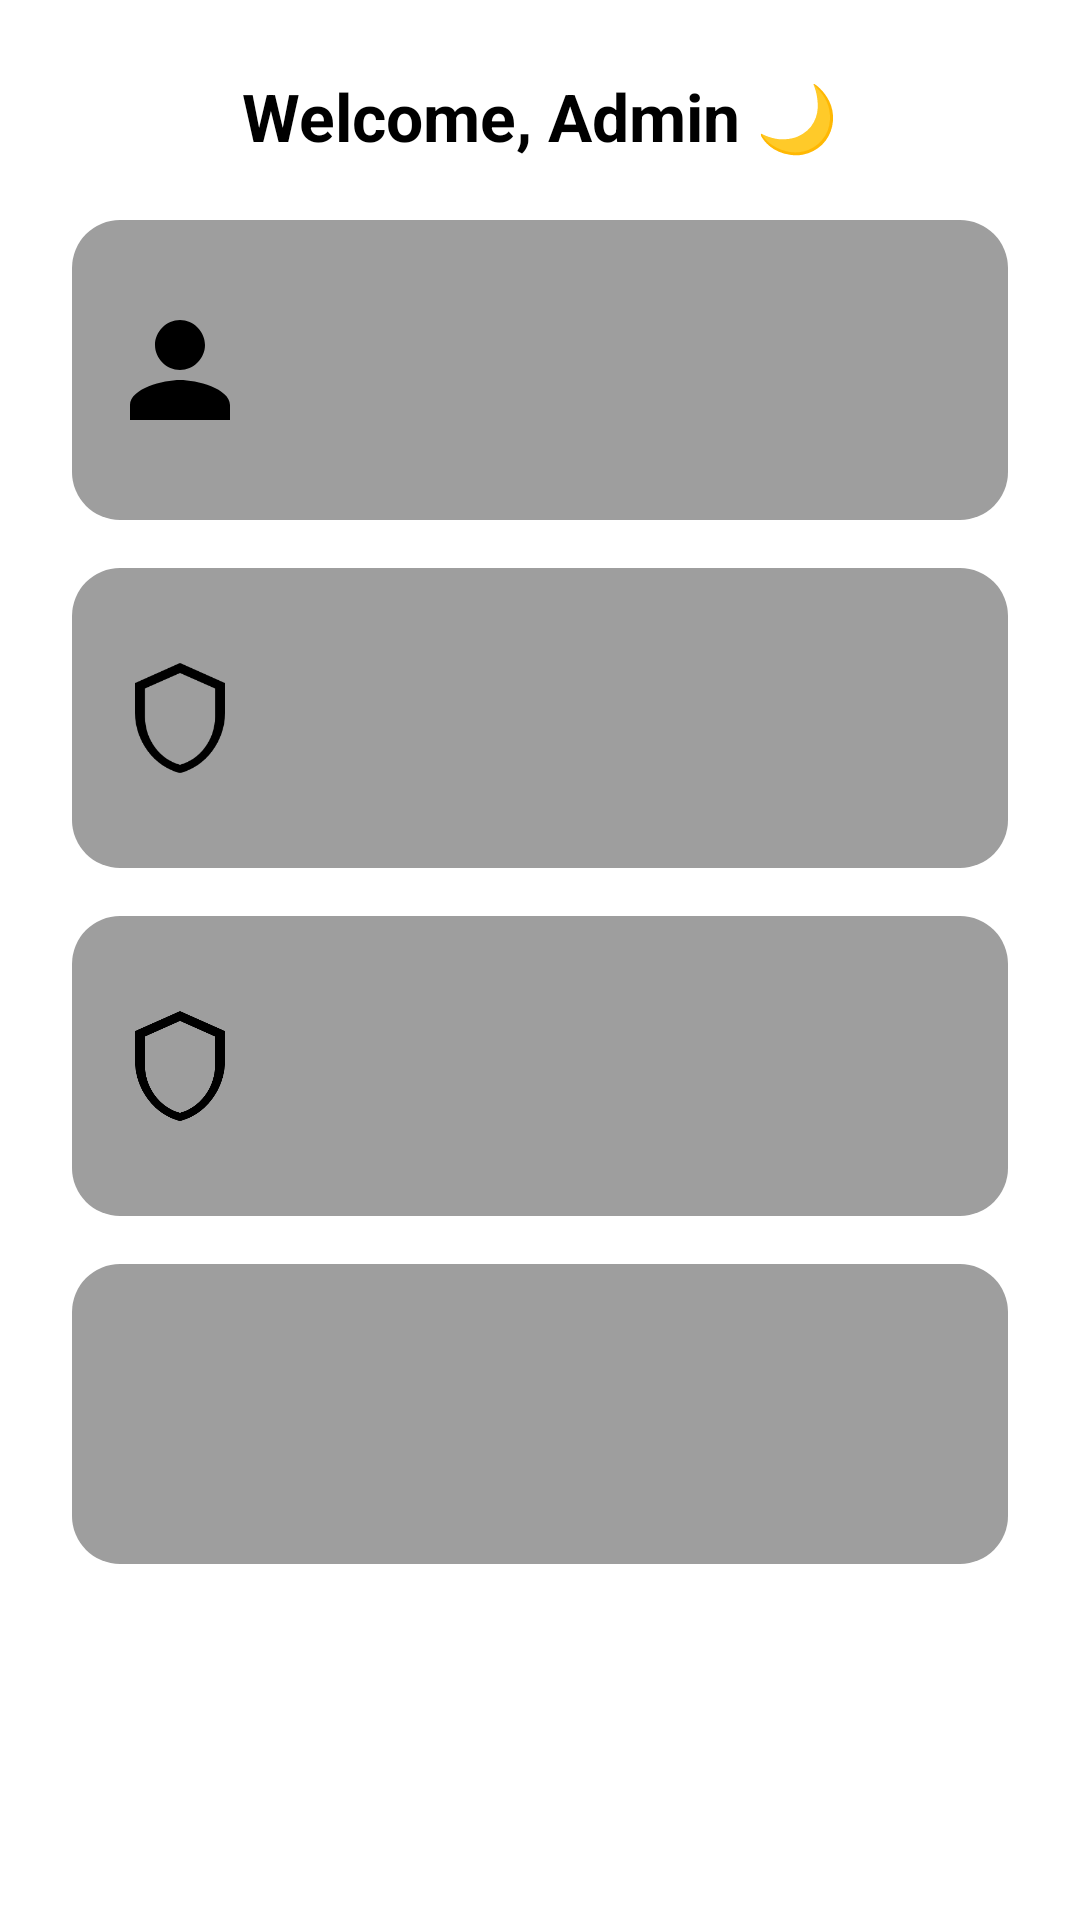

Icons on this 1080 x 1920 Android screen, each with the point to tap as [x,y]:
admin: [180,718], [180,1066]
users: [180,370]
